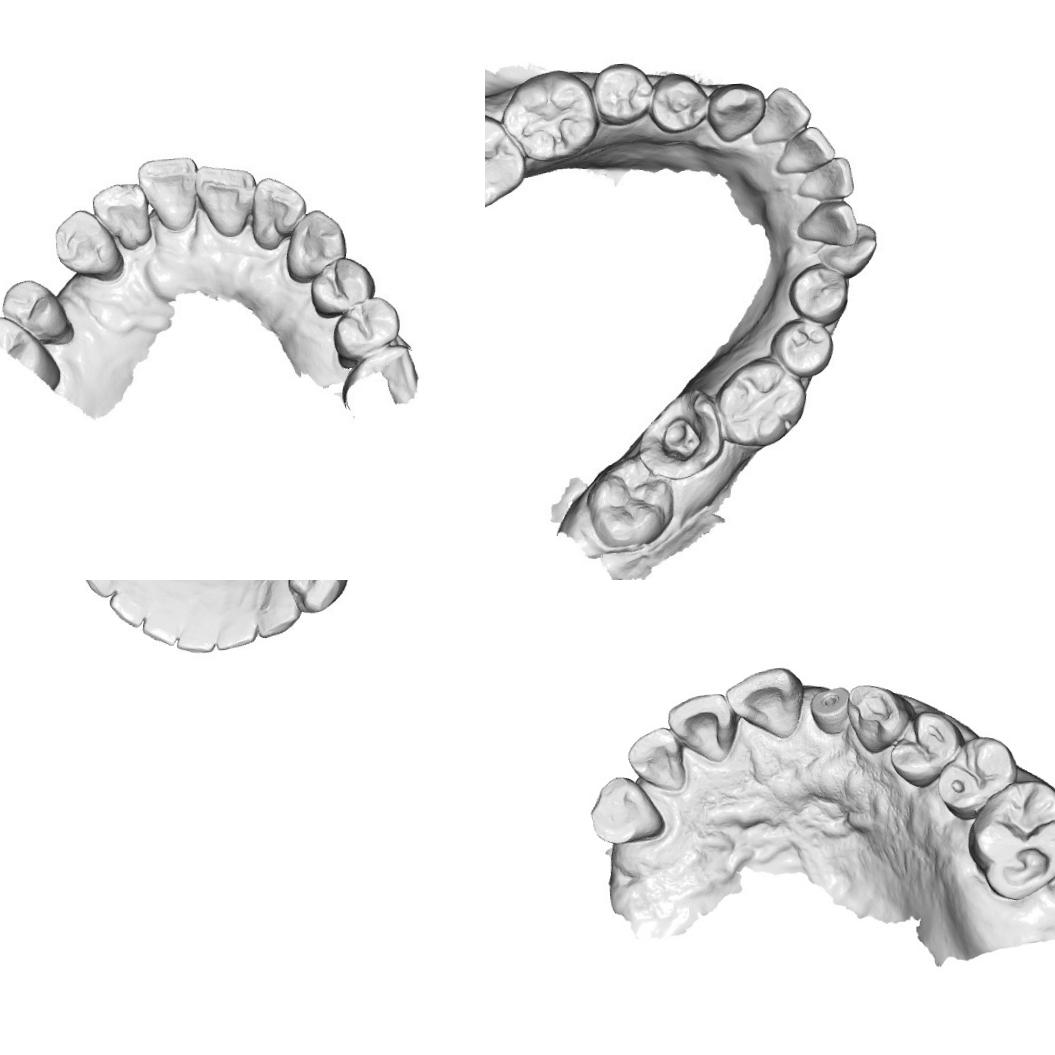canine: (48, 206, 126, 288), (584, 773, 665, 847), (280, 206, 348, 285), (846, 680, 914, 752), (704, 80, 766, 144), (812, 220, 880, 276), (253, 580, 301, 636), (79, 580, 133, 600)
implant: (808, 684, 853, 734)
incisor: (724, 664, 810, 740), (133, 151, 204, 232), (664, 689, 738, 766), (194, 164, 260, 240), (245, 173, 306, 254), (750, 80, 816, 145), (93, 180, 151, 253), (624, 725, 688, 791), (791, 196, 859, 250), (789, 153, 856, 206), (773, 121, 836, 175), (144, 587, 190, 642), (110, 580, 156, 624), (174, 610, 216, 654), (218, 604, 258, 649)
molar: (963, 775, 1055, 905), (494, 64, 602, 166), (709, 353, 811, 450), (584, 454, 676, 552), (485, 109, 525, 215)
premolar: (932, 734, 1016, 820), (0, 272, 80, 354), (328, 293, 408, 370), (887, 708, 964, 788), (307, 251, 379, 317), (588, 58, 654, 126), (785, 260, 852, 324), (645, 69, 710, 133), (768, 316, 835, 378), (289, 580, 343, 610)
